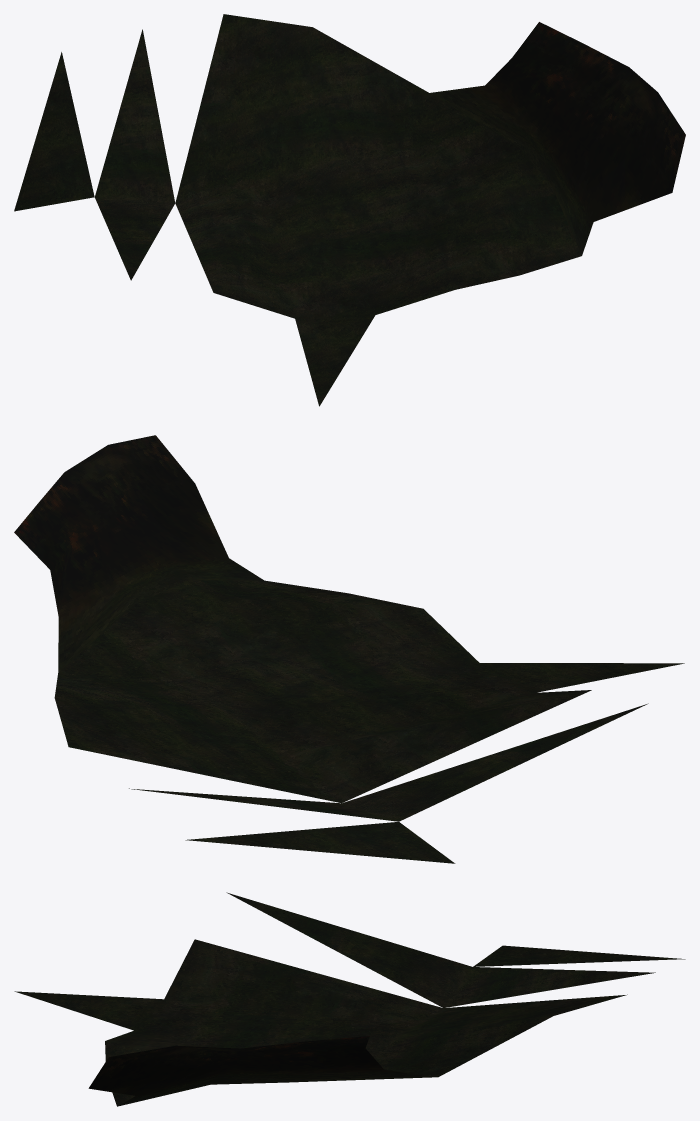
File: cell_4_-20.gltf
3 views of the same model, one above another, from view 1: azimuth 30°, elevation 25°; view 2: azimuth 150°, elevation 25°; view 3: azimuth 270°, elevation 25° (orthographic). The views are drawn at different scales.
Parts seen in each view (by area): view 1: cell_4_-20; view 2: cell_4_-20; view 3: cell_4_-20.
Part boxes in pixels (<box>): cell_4_-20: <box>14,14,685,406</box>; cell_4_-20: <box>14,435,684,863</box>; cell_4_-20: <box>14,892,685,1106</box>.
Bounding box in the file's own units: 313 × 89.53 × 374.
2 materials, 2 textured.
